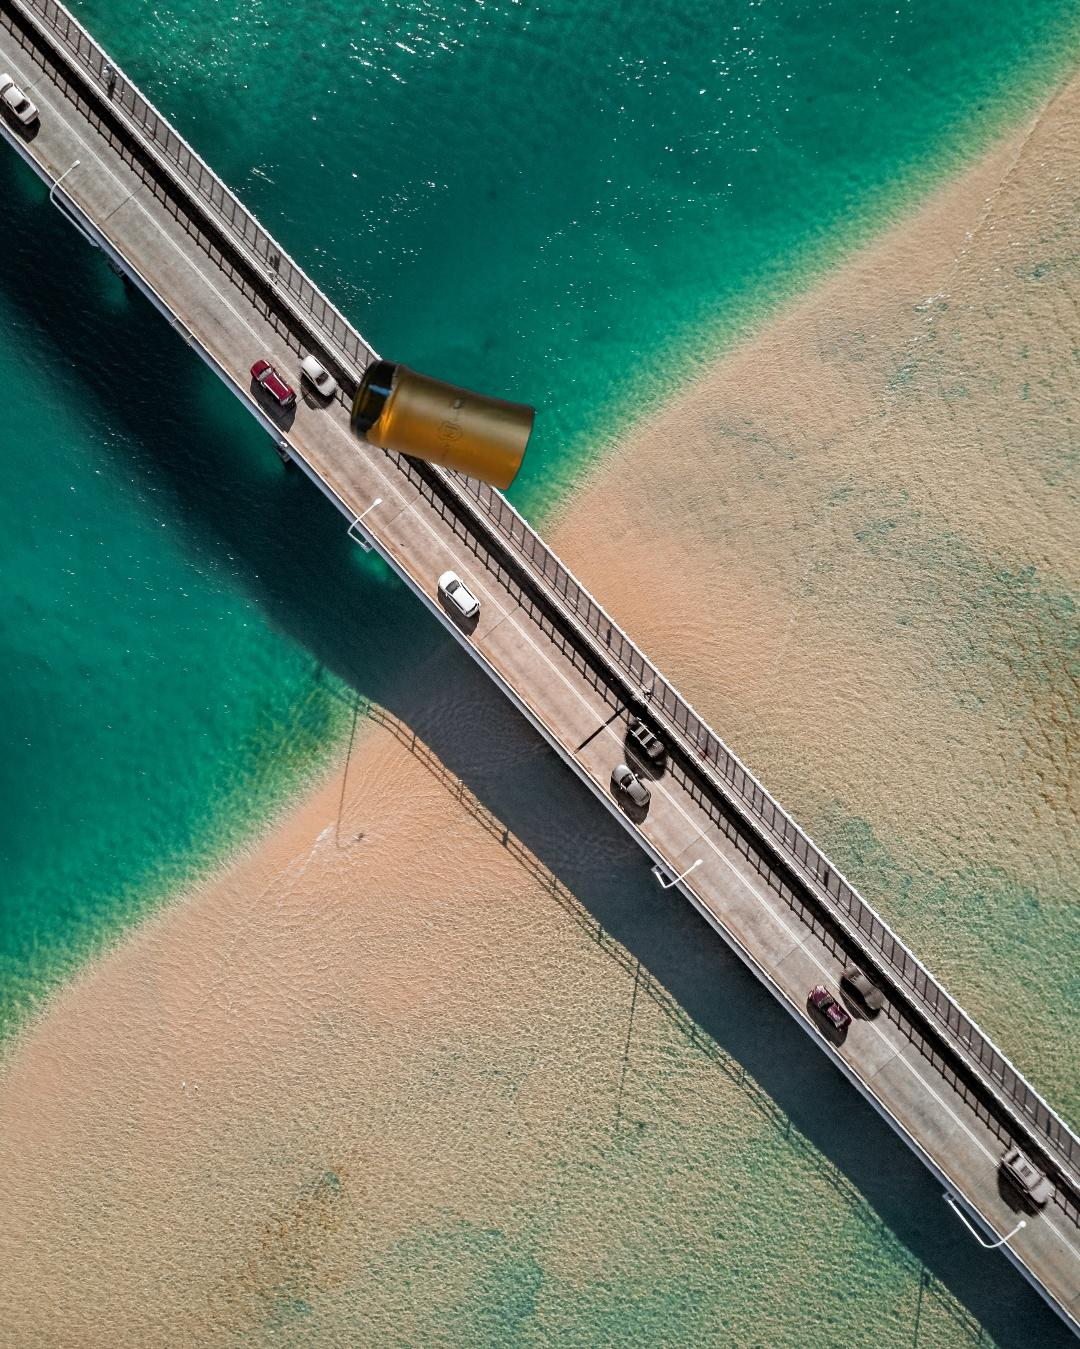glass: (346, 356, 541, 495)
